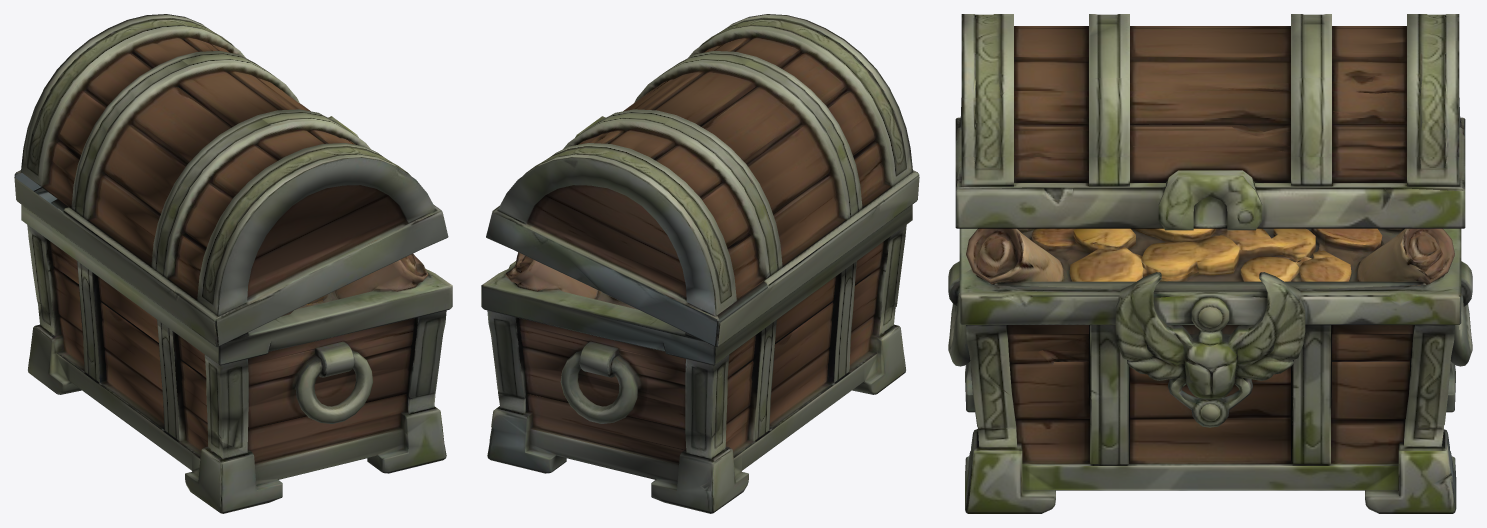
File: treasure_chest.fbx
3 views of the same model, side by side, from view 1: azimuth 30°, elevation 25°; view 2: azimuth 150°, elevation 25°; view 3: azimuth 270°, elevation 25° (orthographic). The views are drawn at different scales.
Parts seen in each view (by area): view 1: tripo_node_d67da378; view 2: tripo_node_d67da378; view 3: tripo_node_d67da378.
Part boxes in pixels (bbox=[...]): tripo_node_d67da378: bbox=[14, 14, 452, 513]; tripo_node_d67da378: bbox=[481, 14, 919, 513]; tripo_node_d67da378: bbox=[948, 14, 1472, 513].
Bounding box in the file's own units: 0.7065 × 0.8728 × 1.
